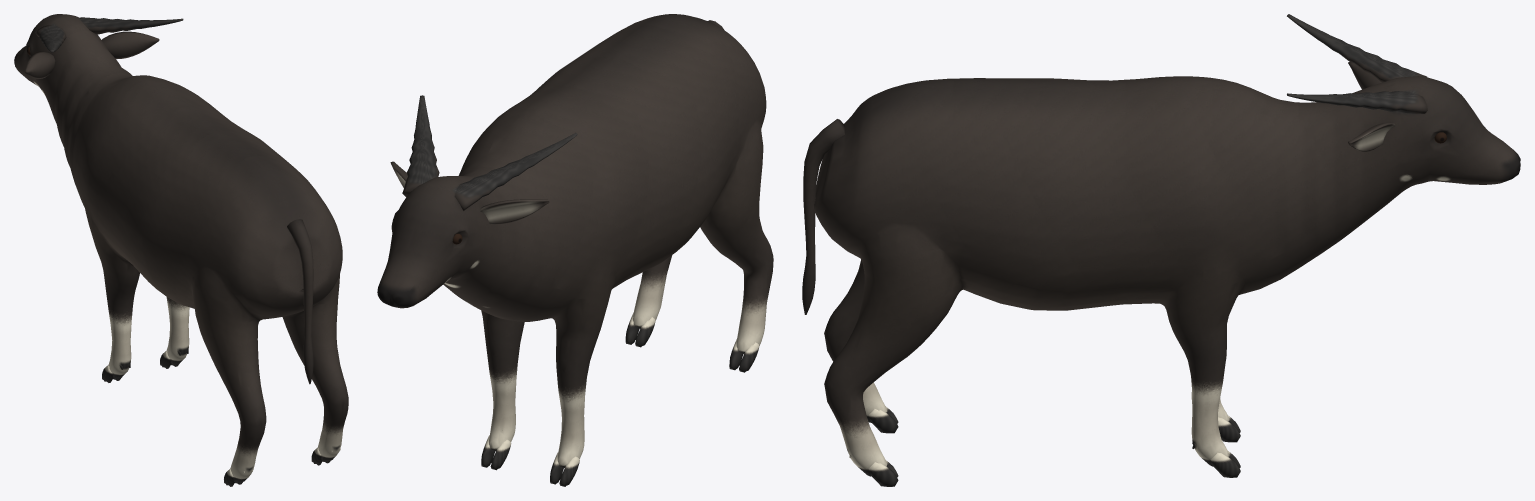
Rendered from anoa.glb.
3 renders of one model, left to right at view 1: azimuth 30°, elevation 25°; view 2: azimuth 150°, elevation 25°; view 3: azimuth 270°, elevation 25°, orthographic. The views are drawn at different scales.
Parts seen in each view (by area): view 1: Anoa_Dataran_Rendah; view 2: Anoa_Dataran_Rendah; view 3: Anoa_Dataran_Rendah.
Boxes of the visible parts, x1,y1,x2,y2 form: Anoa_Dataran_Rendah: [14, 14, 348, 486]; Anoa_Dataran_Rendah: [377, 14, 773, 486]; Anoa_Dataran_Rendah: [802, 14, 1520, 486].
Size of the model in its own units: 0.4624 by 0.9521 by 1.54.
1 material, 1 textured.
